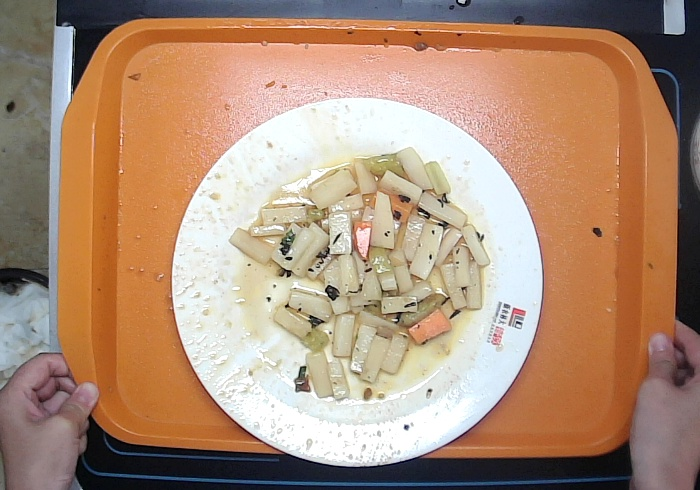ZNLD-Da_Yuan_Pan: (171, 92, 547, 465)
